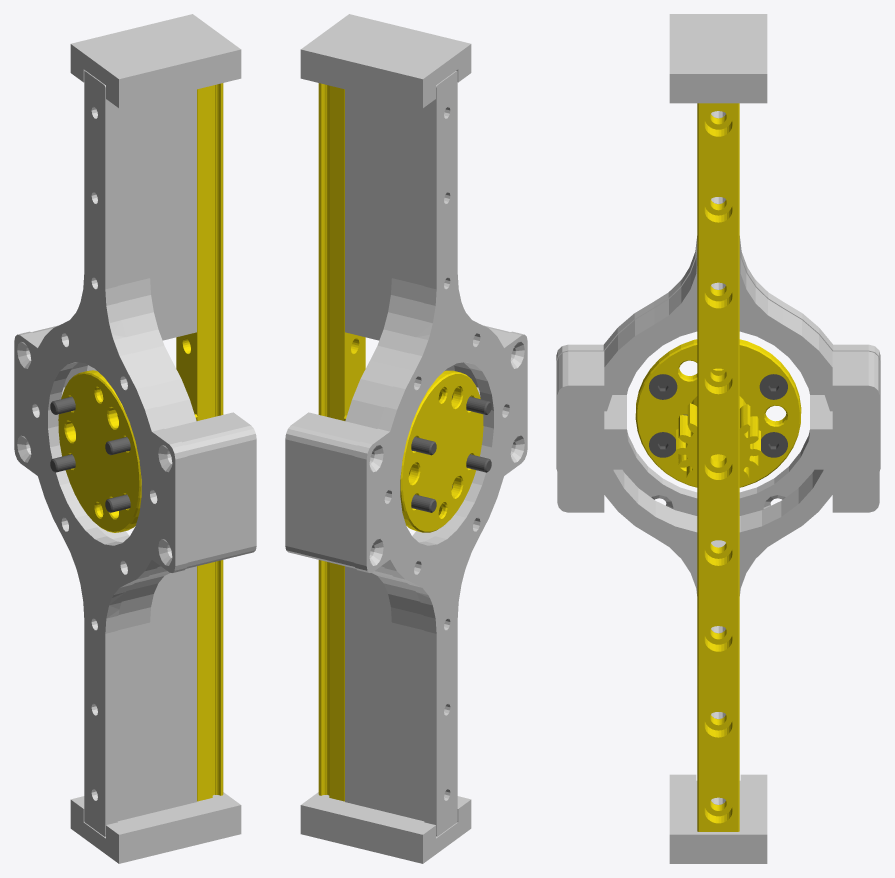
The model's file is end_link.glb.
3 views of the same model, side by side, from view 1: azimuth 30°, elevation 25°; view 2: azimuth 150°, elevation 25°; view 3: azimuth 270°, elevation 25° (orthographic).
Visible parts, largest first — view 1: colored_gripper_base_metal, colored_gripper_base_seeed_yellow, colored_gripper_base_hardware_black; view 2: colored_gripper_base_metal, colored_gripper_base_seeed_yellow, colored_gripper_base_hardware_black; view 3: colored_gripper_base_metal, colored_gripper_base_seeed_yellow, colored_gripper_base_hardware_black.
Boxes of the visible parts, left/top/right/bottom form: colored_gripper_base_metal: left=14, top=14, right=256, bottom=863; colored_gripper_base_seeed_yellow: left=58, top=83, right=223, bottom=801; colored_gripper_base_hardware_black: left=50, top=396, right=130, bottom=512; colored_gripper_base_metal: left=285, top=14, right=527, bottom=863; colored_gripper_base_seeed_yellow: left=318, top=83, right=483, bottom=801; colored_gripper_base_hardware_black: left=411, top=396, right=491, bottom=512; colored_gripper_base_metal: left=556, top=14, right=880, bottom=863; colored_gripper_base_seeed_yellow: left=635, top=103, right=801, bottom=831; colored_gripper_base_hardware_black: left=649, top=374, right=787, bottom=457.
Size of the model in its own units: 0.0335 by 0.1841 by 0.0685.
